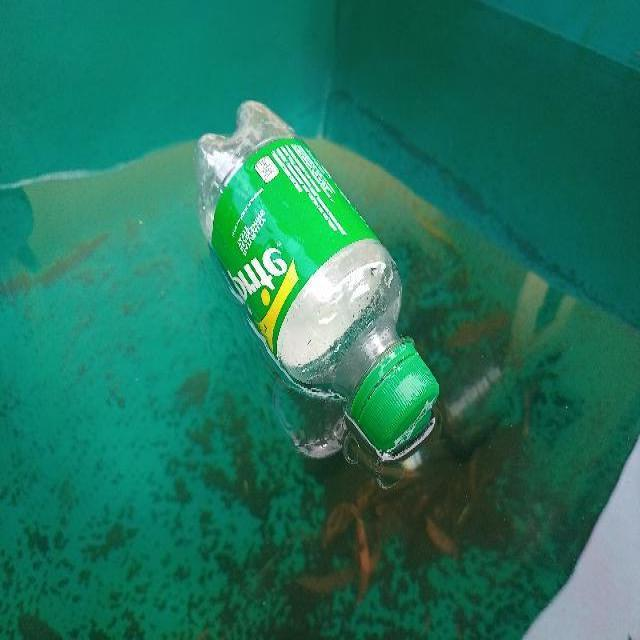Bottle: (186, 94, 448, 472)
